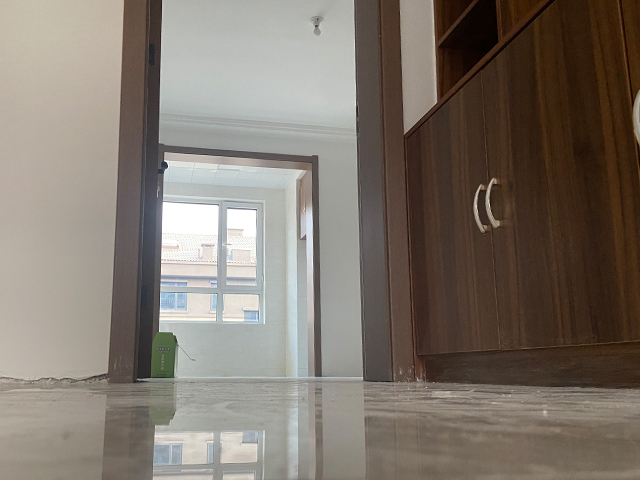cabinet: (403, 1, 640, 389)
